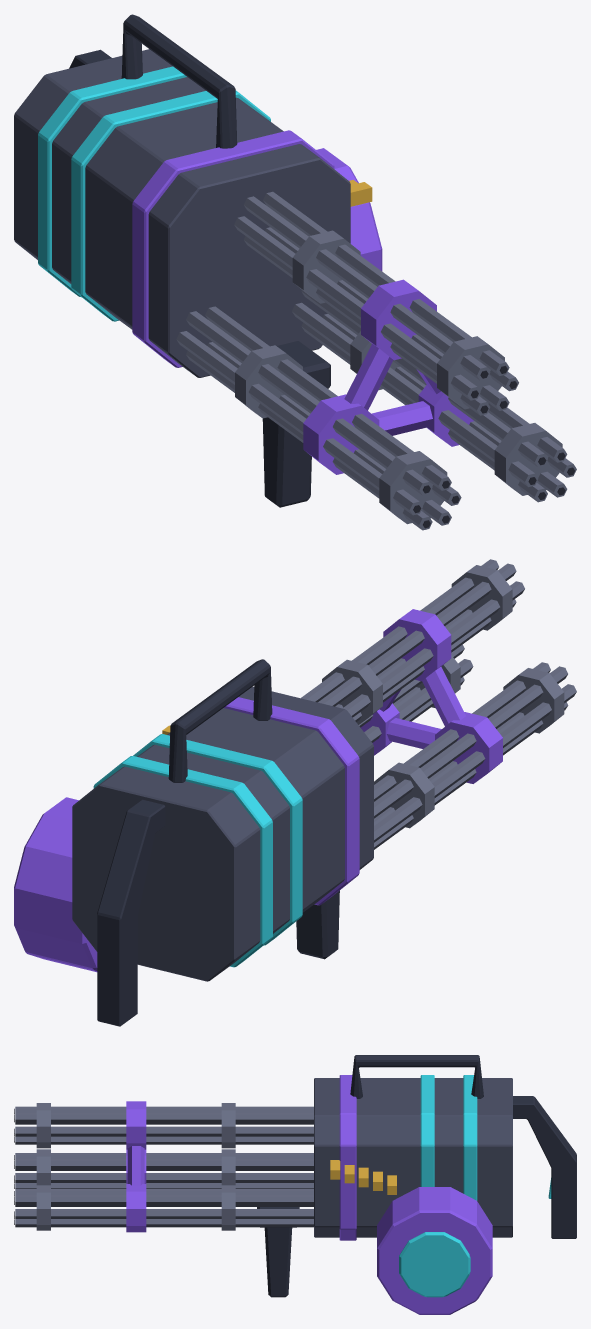
The model's file is myw_tripleminigun.glb.
3 renders of one model, top to bottom at view 1: azimuth 30°, elevation 25°; view 2: azimuth 150°, elevation 25°; view 3: azimuth 270°, elevation 25°, orthographic. The views are drawn at different scales.
Visible parts, largest first — view 1: Body, BarrelsB, BarrelsA, BarrelsC, Frame, Grip, AmmoDrum; view 2: Body, BarrelsB, BarrelsA, AmmoDrum, Frame, Grip, BarrelsC; view 3: Body, AmmoDrum, BarrelsA, BarrelsC, BarrelsB, Frame, Grip, Belt.
Part boxes in pixels (x1,y1,x2,y2): Body: (14,14,350,377); BarrelsB: (176,306,461,530); BarrelsA: (234,191,518,415); BarrelsC: (292,290,576,502); Frame: (303,279,473,474); Grip: (262,341,330,507); AmmoDrum: (316,148,382,271); Body: (72,659,373,1026); BarrelsB: (374,662,576,849); BarrelsA: (301,559,524,724); AmmoDrum: (14,797,97,972); Frame: (360,609,502,783); Grip: (296,890,339,959); BarrelsC: (358,644,473,742); Body: (314,1055,576,1240); AmmoDrum: (377,1187,492,1314); BarrelsA: (14,1103,313,1148); BarrelsC: (14,1185,313,1230); BarrelsB: (14,1149,313,1188); Frame: (126,1101,146,1232); Grip: (257,1207,299,1297); Belt: (330,1160,396,1194).
Size of the model in its own units: 1.44 by 1.84 by 3.96.
